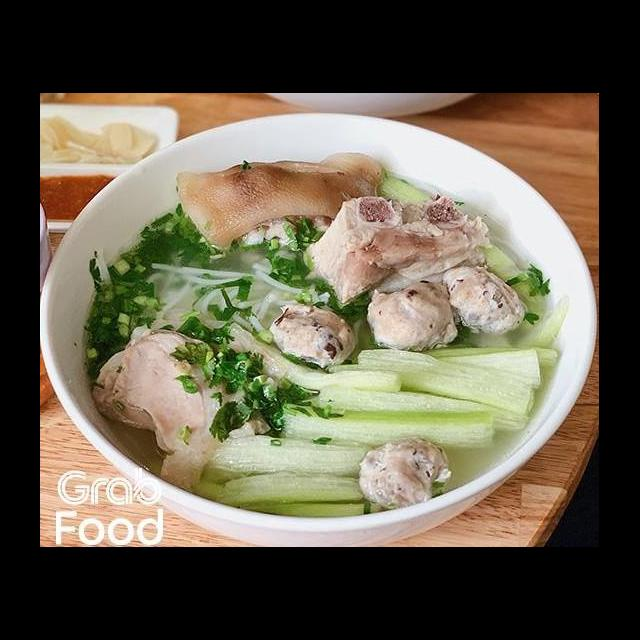bun: (125, 248, 332, 345)
bun moc: (55, 131, 599, 537)
thit heo: (87, 325, 270, 465), (298, 191, 494, 312)
vien moc: (348, 429, 458, 513), (366, 275, 464, 354), (442, 259, 534, 337), (268, 301, 362, 373)
